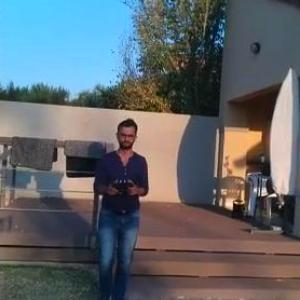follow: (86, 112, 154, 299)
